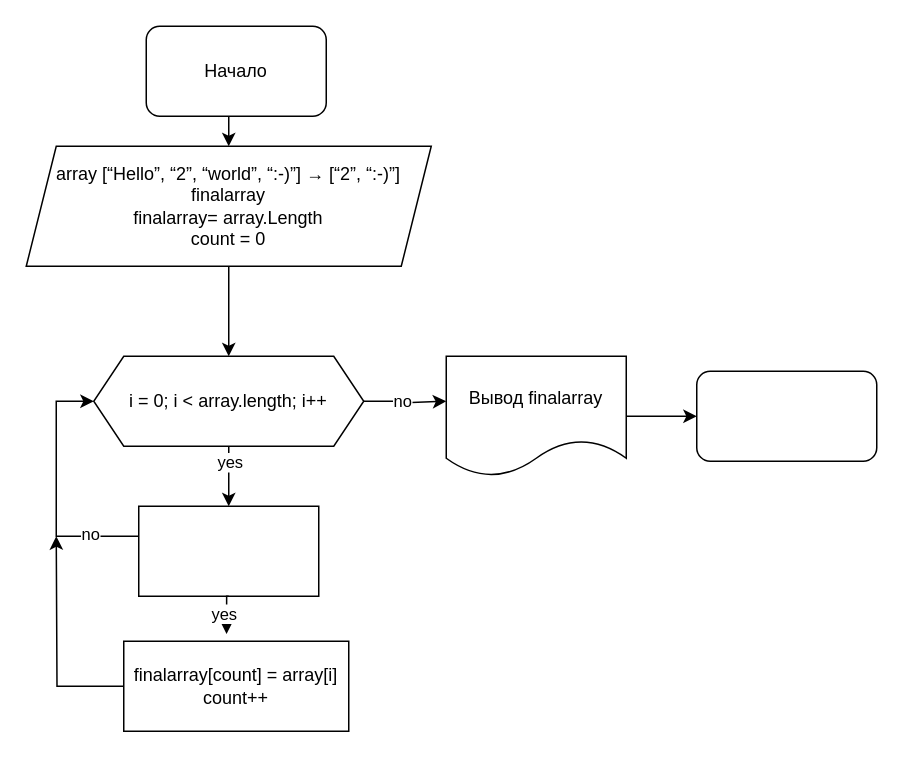
Some shapes in this 903 by 758 pixel diagram are drawn without their labels. The shapes that lost their labels are listed below. From the top down, each one's centre as x and y in pixels, then its label:
At [786,415]: "конец".
At [228,550]: "array [i] <=3".
